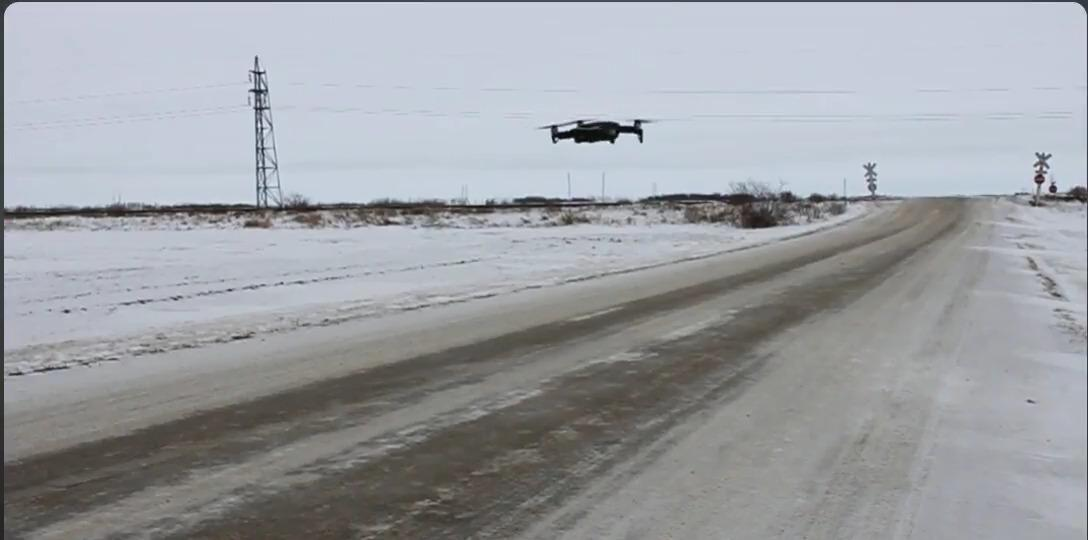dr: (543, 91, 666, 162)
